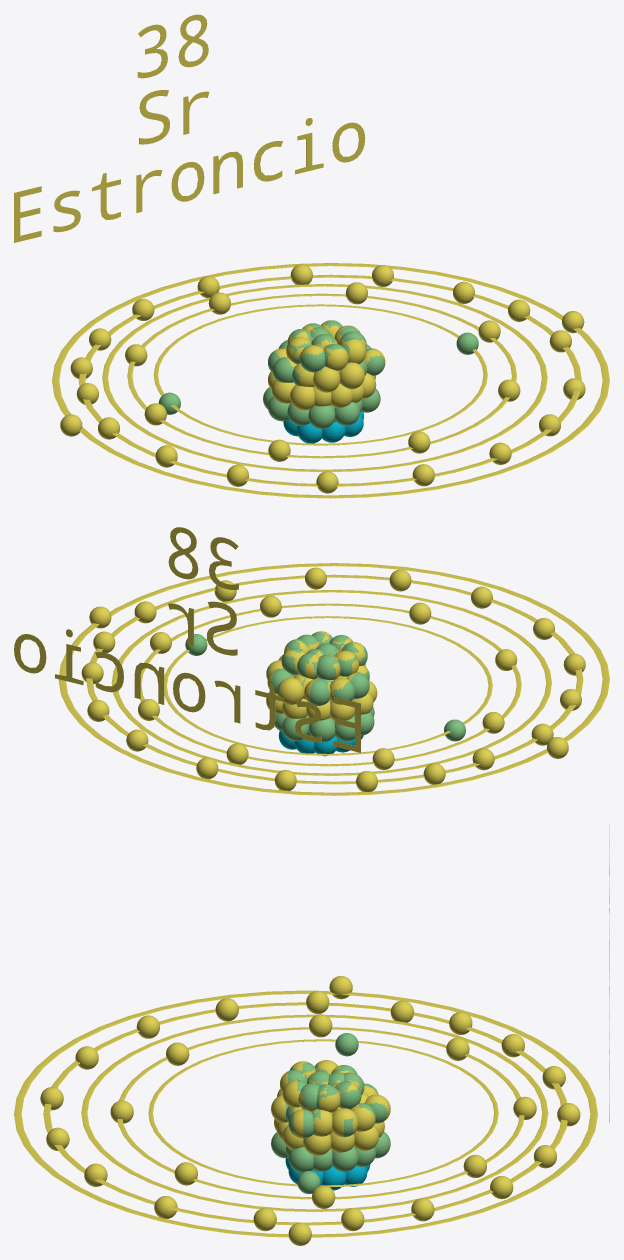
File: 38-ESTRONCIO-ANDROID.glb
3 views of the same model, one above another, from view 1: azimuth 30°, elevation 25°; view 2: azimuth 150°, elevation 25°; view 3: azimuth 270°, elevation 25° (orthographic). The views are drawn at different scales.
Parts seen in each view (by area): view 1: Mesh_Mesh_head_geo.001_lambert2SG.001; view 2: Mesh_Mesh_head_geo.001_lambert2SG.001; view 3: Mesh_Mesh_head_geo.001_lambert2SG.001.
Part boxes in pixels (left/top/right/bottom): Mesh_Mesh_head_geo.001_lambert2SG.001: left=14, top=14, right=609, bottom=498; Mesh_Mesh_head_geo.001_lambert2SG.001: left=14, top=527, right=609, bottom=795; Mesh_Mesh_head_geo.001_lambert2SG.001: left=14, top=824, right=609, bottom=1245.
Bounding box in the file's own units: 208 × 125 × 204.
